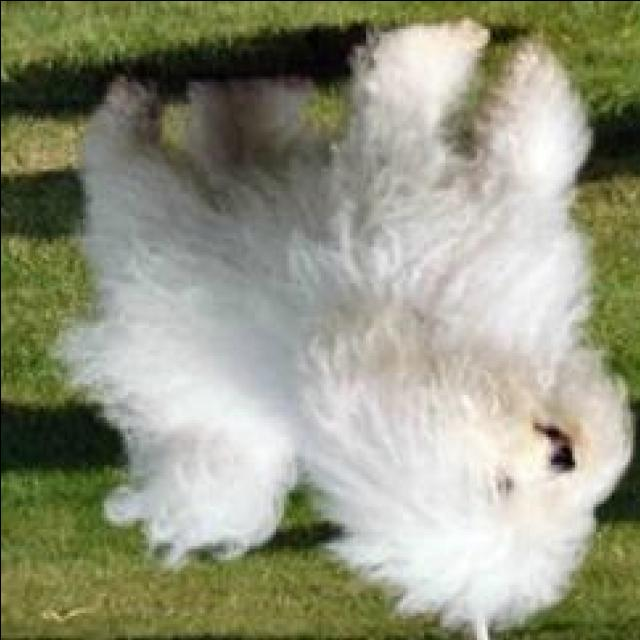maltese_dog: (51, 20, 634, 638)
